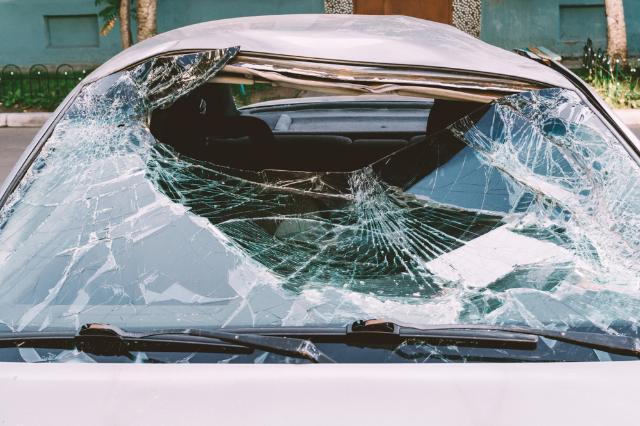dent: (221, 29, 446, 67)
glass shatter: (0, 48, 640, 364)
